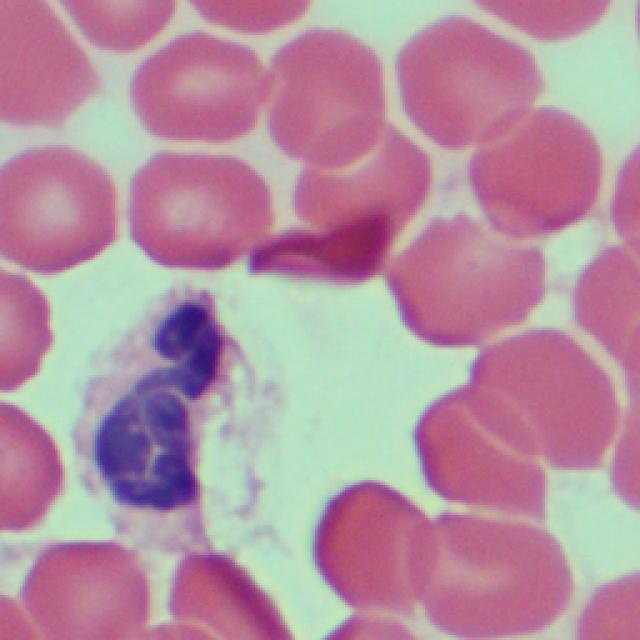RBC: (478, 323, 637, 478), (382, 12, 537, 166), (311, 477, 445, 639), (461, 94, 601, 247), (378, 212, 534, 345), (296, 114, 431, 267), (410, 508, 565, 640), (252, 6, 377, 163), (125, 31, 272, 154), (121, 146, 263, 272), (1, 136, 118, 283), (8, 538, 152, 638), (0, 0, 89, 128), (0, 394, 61, 530), (50, 0, 182, 58), (466, 0, 625, 47), (0, 266, 49, 394), (177, 0, 314, 36)
WBC: (107, 302, 240, 558)
